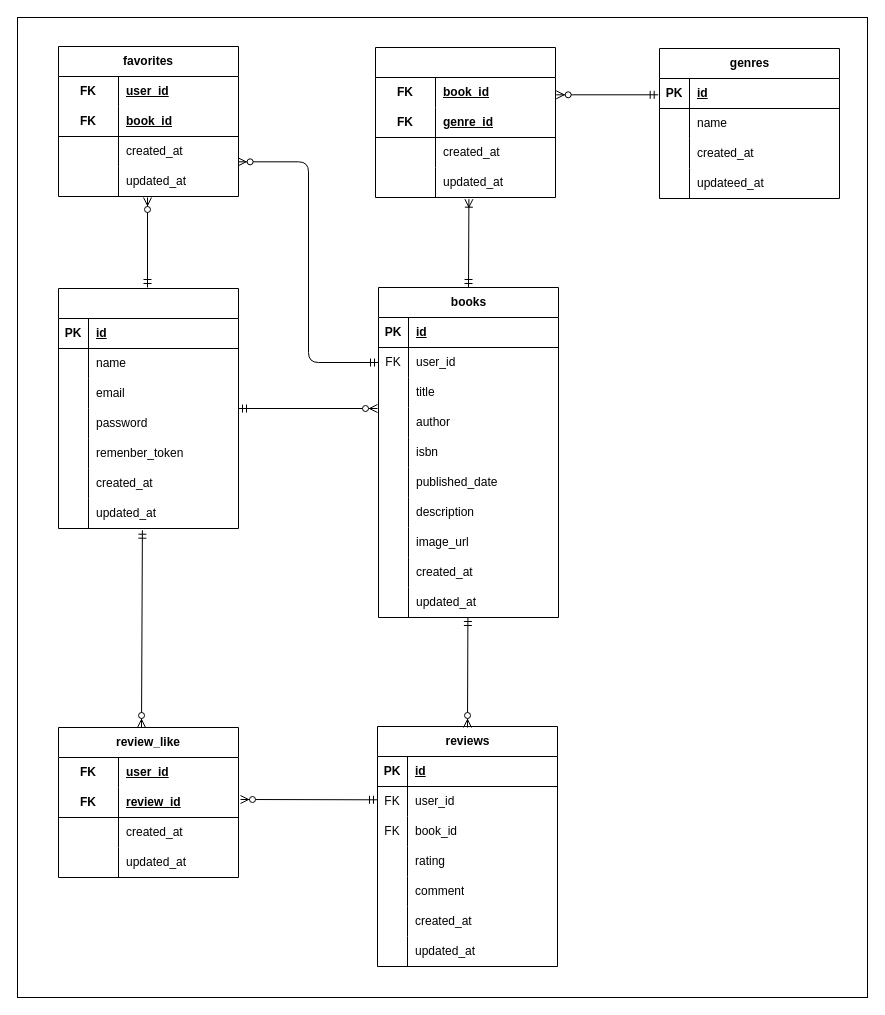
Some shapes in this 885 by 1015 pixel diagram are drawn without their labels. The shapes that lost their labels are listed below. From the top down, each one's box as (x1, y1, x2, y2) in pixels, then its label:
(374, 46, 556, 198): book_genre
(58, 288, 238, 528): users
